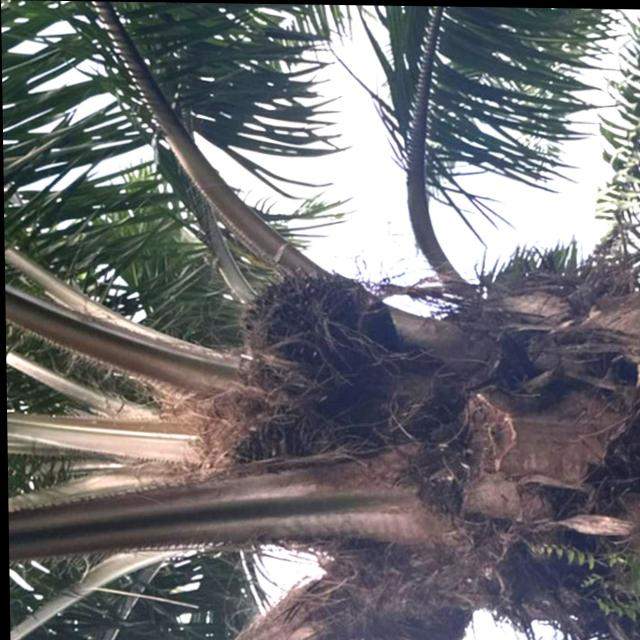unripe: (234, 260, 388, 401)
